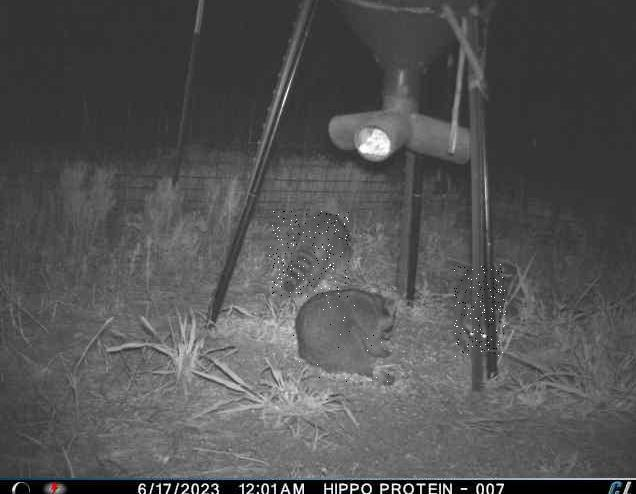Raccoon: (290, 289, 401, 385), (269, 212, 349, 298), (454, 265, 506, 359)
